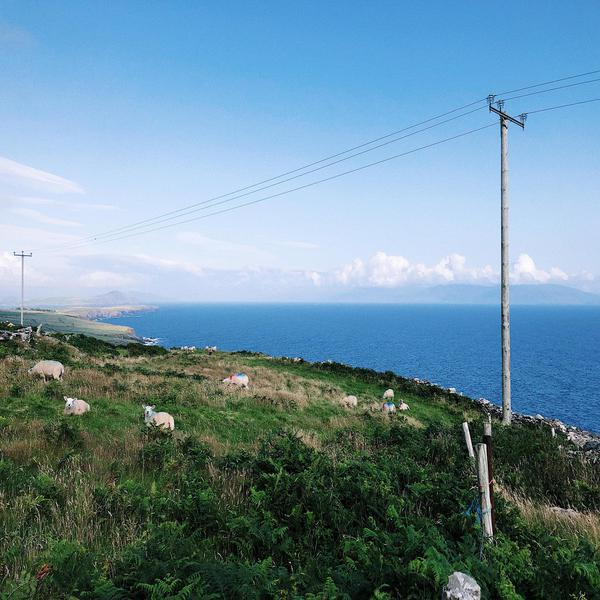utility_pole: (476, 83, 537, 179), (9, 244, 37, 279)
